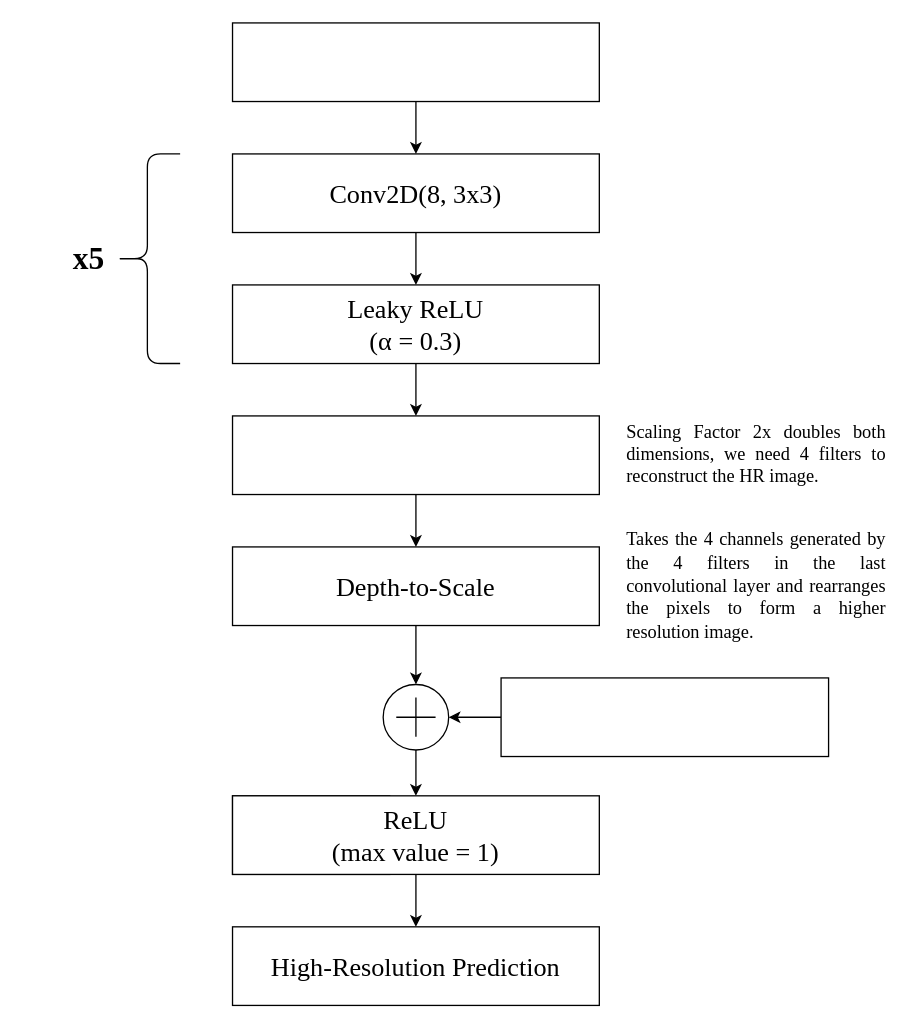
This 909x1028 diagram has some shape labels left out. The box of each missing label's shape, as (x1, y1, x2, y2) in pixels:
Conv2D(4, 3x3): (231, 415, 599, 495)
Lanczos Interpolated Input: (500, 677, 829, 757)
Low-Resolution Input: (231, 22, 599, 102)
